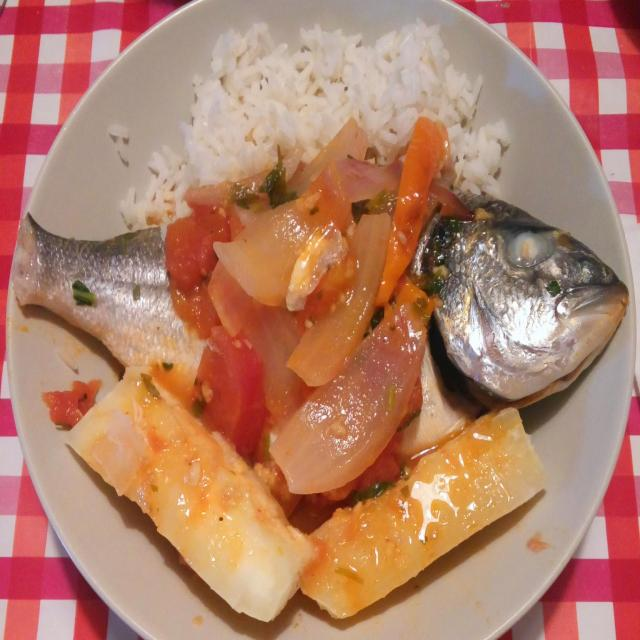arroz: (164, 12, 510, 180)
pescado: (14, 184, 629, 444)
yuca: (70, 373, 316, 624), (304, 402, 544, 620)
